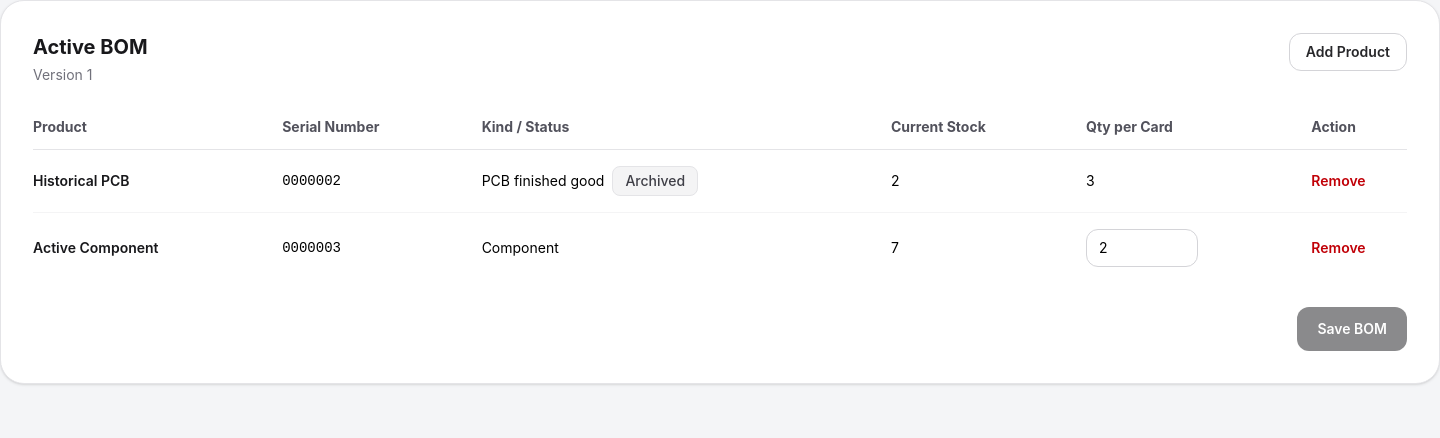
Test: PCB BOM editor › rejects invalid Qty per Card 0
Replace the text in the field named "Qty per Card for Active Component" with "0". click: (1142, 248)
box: x1=1086 y1=229 x2=1198 y2=267
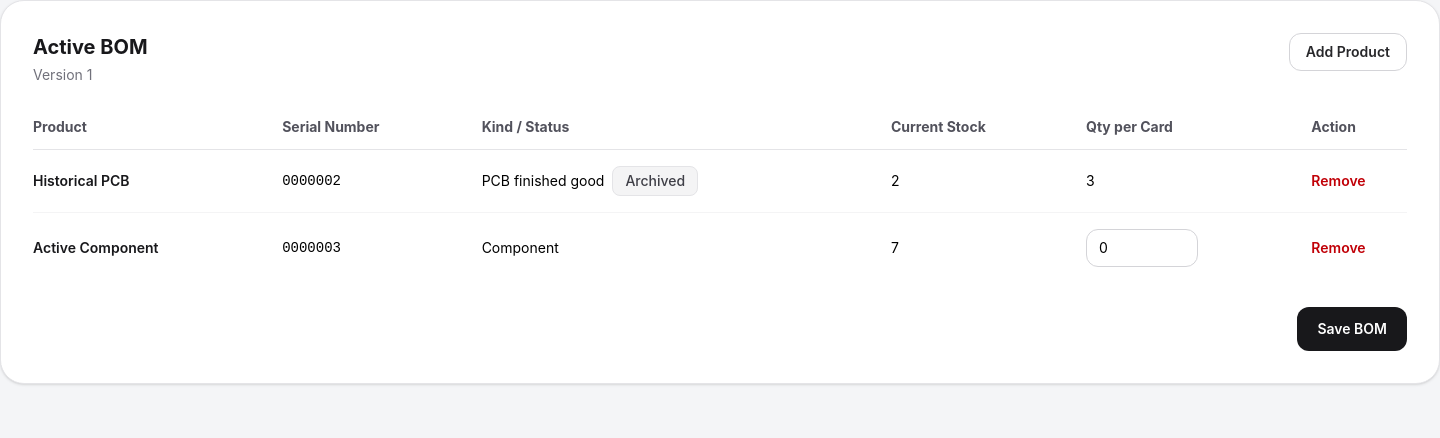
Click the button "Save BOM". click: click(1352, 329)
box: x1=1297 y1=307 x2=1407 y2=351
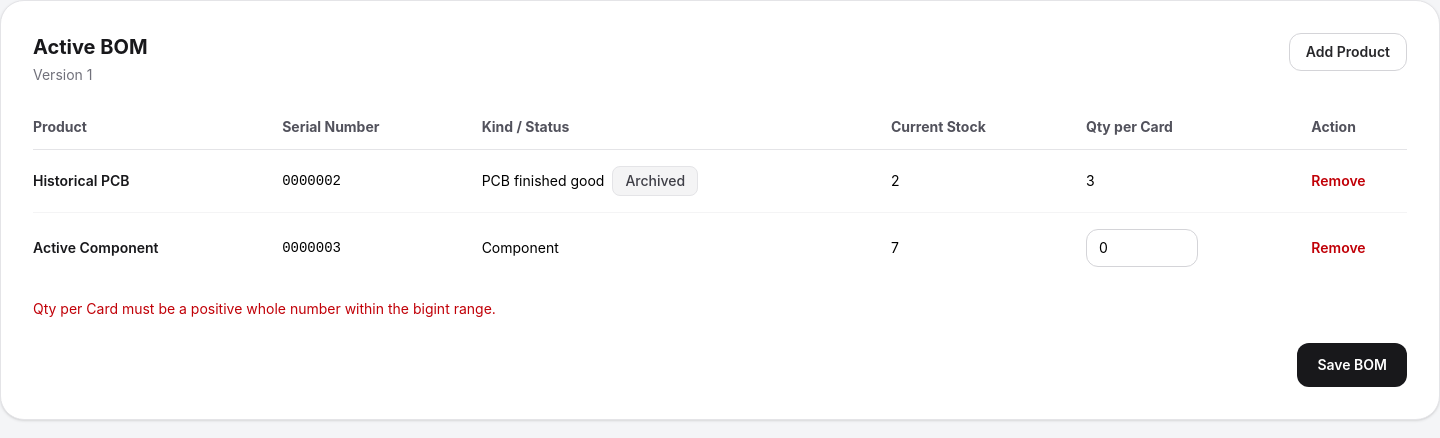
Expected: the message shows "positive whole number", x1=33 y1=300 x2=496 y2=317
